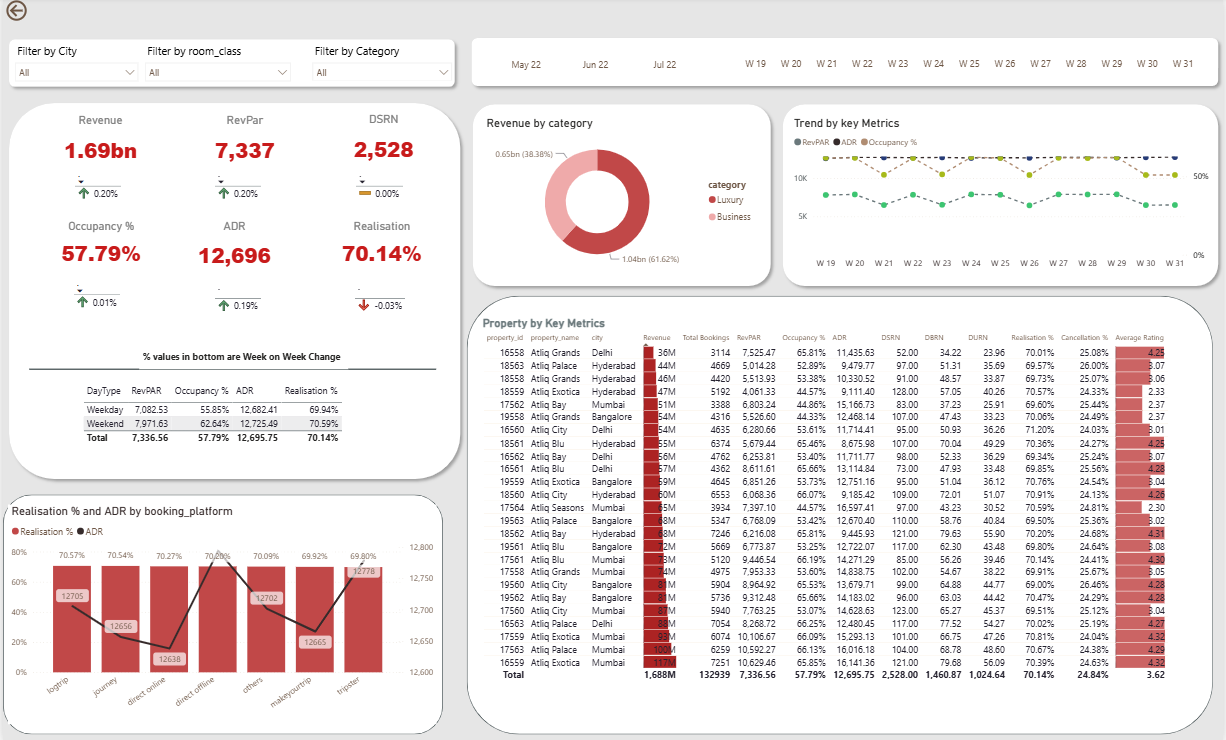

The page's visual inventory and layout, read from the dashboard file:
{"tool":"powerbi","page":{"name":"Home","canvas":[1800,1100],"ordinal":0},"visuals":[{"type":"shape","box":[0,148.1,683.3,572.2],"z":0},{"type":"shape","box":[683.8,149.3,457.1,285.7],"z":1000},{"type":"shape","box":[1140.9,149.3,659.9,285.7],"z":2000},{"type":"shape","box":[0,54.3,675,88],"z":3000},{"type":"slicer","fields":{"Values":["dim_hotels.city"]},"box":[12.9,68.2,191.7,66.4],"z":4000},{"type":"slicer","fields":{"Values":["dim_rooms.room_class"]},"box":[204.6,68.2,224.9,66.4],"z":5000},{"type":"slicer","fields":{"Values":["dim_hotels.category"]},"box":[451.6,68.2,215.7,55.3],"z":6000},{"type":"shape","box":[682,51.6,1118.8,88.5],"z":7000},{"type":"slicer","fields":{"Values":["dim_date.mmm yy"]},"box":[702.2,68.2,342.8,62.7],"z":8000},{"type":"slicer","fields":{"Values":["dim_date.week no"]},"box":[1065.4,66.4,718.8,62.7],"z":9000},{"type":"card","title":"Revenue","fields":{"Values":["Key_measure.Revenue"]},"box":[73.7,171.4,140.1,86.6],"z":10000},{"type":"card","title":"RevPar","fields":{"Values":["Key_measure.RevPAR"]},"box":[294.9,171.4,123.5,86.6],"z":11000},{"type":"card","title":"DSRN","fields":{"Values":["Key_measure.DSRN"]},"box":[479.2,169.6,164,88.5],"z":12000},{"type":"card","title":"Occupancy %","fields":{"Values":["Key_measure.Occupancy %"]},"box":[79.8,327.4,131,77.4],"z":13000},{"type":"card","title":"ADR","fields":{"Values":["Key_measure.ADR"]},"box":[269,327.4,144,83.3],"z":14000},{"type":"card","title":"Realisation","fields":{"Values":["Key_measure.Realisation %"]},"box":[489.3,327.4,140.5,77.4],"z":15000},{"type":"actionButton","box":[0,0,100,40],"z":16000},{"type":"tableEx","fields":{"Values":["Key_measure.Revenue WoW change %"]},"box":[99.5,245.1,106.9,73.7],"z":17000},{"type":"tableEx","fields":{"Values":["Key_measure.Occupancy WoW change %"]},"box":[97.6,406,92.9,64.3],"z":18000},{"type":"tableEx","fields":{"Values":["Key_measure.Revpar WoW change %"]},"box":[306,245.1,101.4,70],"z":19000},{"type":"tableEx","fields":{"Values":["Key_measure.DSRN WoW change %"]},"box":[514.2,245.1,97.7,70],"z":20000},{"type":"tableEx","fields":{"Values":["Key_measure.ADR WoW change %"]},"box":[306,410.7,101.2,59.5],"z":21000},{"type":"tableEx","fields":{"Values":["Key_measure.Realisation WoW change %"]},"box":[513.1,410.7,100,59.5],"z":22000},{"type":"donutChart","fields":{"Category":["dim_hotels.category"],"Y":["Key_measure.Revenue"]},"box":[707.4,175.9,411.1,235.2],"z":23000},{"type":"lineChart","title":"Trend by key Metrics","fields":{"Category":["dim_date.week no"],"Y":["Key_measure.RevPAR","Key_measure.ADR"],"Y2":["Key_measure.Occupancy %"]},"box":[1161.1,175.9,622.2,235.2],"z":24000},{"type":"tableEx","fields":{"Values":["dim_date.DayType","Key_measure.RevPAR","Key_measure.Occupancy %","Key_measure.ADR","Key_measure.Realisation %"]},"box":[113,564.8,457.4,129.6],"z":25000},{"type":"shape","box":[38,542,600,14],"z":26000},{"type":"textbox","box":[200,517,308,33],"z":27000},{"type":"shape","box":[0,733.6,648.8,353.9],"z":28000},{"type":"lineStackedColumnComboChart","fields":{"Category":["fact_bookings.booking_platform"],"Y":["Key_measure.Realisation %"],"Y2":["Key_measure.ADR"]},"box":[7.4,748.3,632.2,324.4],"z":29000},{"type":"shape","box":[683.8,440.5,1100.4,647],"z":30000},{"type":"tableEx","title":"Property by Key Metrics","fields":{"Values":["dim_hotels.property_id","dim_hotels.property_name","dim_hotels.city","Key_measure.Revenue","Key_measure.Total Bookings","Key_measure.RevPAR","Key_measure.Occupancy %","Key_measure.ADR","Key_measure.DSRN","Key_measure.DBRN","Key_measure.DURN","Key_measure.Realisation %"]},"box":[702.2,470,1056.1,602.7],"z":31000}]}

Visuals, with their boxes in screenshot pixels (x1, y1, x2, y2), scaled from the page's 1800x1100 canvas onto the 1226x740 screenshot:
shape: Rect(0, 100, 465, 485)
shape: Rect(466, 100, 777, 293)
shape: Rect(777, 100, 1225, 293)
shape: Rect(0, 37, 460, 96)
slicer - dim_hotels.city: Rect(9, 46, 139, 91)
slicer - dim_rooms.room_class: Rect(139, 46, 293, 91)
slicer - dim_hotels.category: Rect(308, 46, 455, 83)
shape: Rect(465, 35, 1225, 94)
slicer - dim_date.mmm yy: Rect(478, 46, 712, 88)
slicer - dim_date.week no: Rect(726, 45, 1215, 87)
"Revenue" card: Rect(50, 115, 146, 174)
"RevPar" card: Rect(201, 115, 285, 174)
"DSRN" card: Rect(326, 114, 438, 174)
"Occupancy %" card: Rect(54, 220, 144, 272)
"ADR" card: Rect(183, 220, 281, 276)
"Realisation" card: Rect(333, 220, 429, 272)
actionButton: Rect(0, 0, 68, 27)
tableEx - Key_measure.Revenue WoW change %: Rect(68, 165, 141, 214)
tableEx - Key_measure.Occupancy WoW change %: Rect(66, 273, 130, 316)
tableEx - Key_measure.Revpar WoW change %: Rect(208, 165, 277, 212)
tableEx - Key_measure.DSRN WoW change %: Rect(350, 165, 417, 212)
tableEx - Key_measure.ADR WoW change %: Rect(208, 276, 277, 316)
tableEx - Key_measure.Realisation WoW change %: Rect(349, 276, 418, 316)
donutChart - dim_hotels.category x Key_measure.Revenue: Rect(482, 118, 762, 277)
"Trend by key Metrics" lineChart: Rect(791, 118, 1215, 277)
tableEx - dim_date.DayType x Key_measure.RevPAR: Rect(77, 380, 389, 467)
shape: Rect(26, 365, 435, 374)
textbox: Rect(136, 348, 346, 370)
shape: Rect(0, 494, 442, 732)
lineStackedColumnComboChart - fact_bookings.booking_platform x Key_measure.Realisation %: Rect(5, 503, 436, 722)
shape: Rect(466, 296, 1215, 732)
"Property by Key Metrics" tableEx: Rect(478, 316, 1198, 722)
